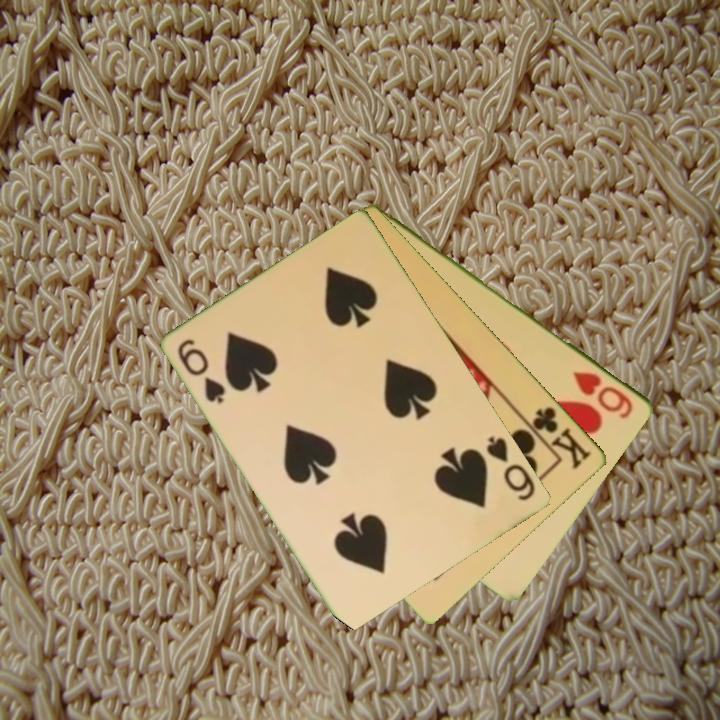6h: (570, 367, 637, 422)
6s: (483, 432, 539, 504), (174, 335, 229, 406)
Kc: (520, 403, 595, 473)
